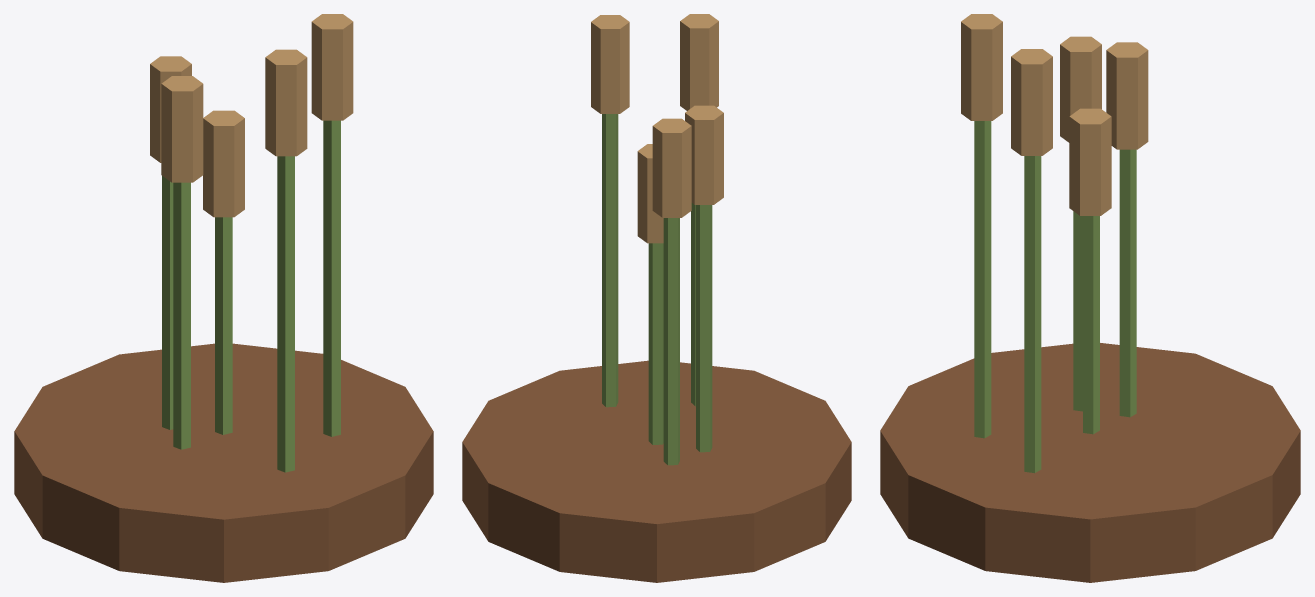
The model's file is reed_island.glb.
The picture shows the model from 3 angles, left to right: view 1: azimuth 30°, elevation 25°; view 2: azimuth 150°, elevation 25°; view 3: azimuth 270°, elevation 25°; orthographic projection. The views are drawn at different scales.
Visible parts, largest first — view 1: Reed island, Reed stalk.005, Reed stalk.002, Reed stalk.004, Reed head.002, Reed head.005, Reed head.004, Reed head, Reed stalk, Reed stalk.001, Reed head.001; view 2: Reed island, Reed stalk.005, Reed stalk.001, Reed stalk.004, Reed head.001, Reed head.005, Reed head.002, Reed head.004, Reed stalk, Reed head, Reed stalk.002; view 3: Reed island, Reed stalk.002, Reed stalk.005, Reed stalk.001, Reed head, Reed head.002, Reed head.005, Reed head.001, Reed stalk, Reed head.004, Reed stalk.004.
Part boxes in pixels (bbox=[...]): Reed island: bbox=[14, 343, 433, 582]; Reed stalk.005: bbox=[323, 120, 340, 436]; Reed stalk.002: bbox=[277, 156, 294, 472]; Reed stalk.004: bbox=[173, 182, 190, 449]; Reed head.002: bbox=[265, 49, 307, 156]; Reed head.005: bbox=[311, 14, 353, 120]; Reed head.004: bbox=[161, 76, 203, 182]; Reed head: bbox=[203, 110, 244, 217]; Reed stalk: bbox=[215, 217, 232, 434]; Reed stalk.001: bbox=[162, 176, 173, 429]; Reed head.001: bbox=[150, 56, 191, 162]; Reed island: bbox=[462, 360, 851, 582]; Reed stalk.005: bbox=[602, 114, 618, 407]; Reed stalk.001: bbox=[663, 218, 679, 465]; Reed stalk.004: bbox=[696, 205, 712, 452]; Reed head.001: bbox=[652, 118, 691, 217]; Reed head.005: bbox=[591, 15, 629, 113]; Reed head.002: bbox=[680, 14, 718, 110]; Reed head.004: bbox=[685, 105, 723, 204]; Reed stalk: bbox=[648, 243, 663, 444]; Reed head: bbox=[637, 144, 663, 243]; Reed stalk.002: bbox=[691, 203, 695, 406]; Reed island: bbox=[880, 343, 1300, 582]; Reed stalk.002: bbox=[974, 121, 991, 438]; Reed stalk.005: bbox=[1024, 156, 1041, 473]; Reed stalk.001: bbox=[1119, 149, 1136, 417]; Reed head: bbox=[1069, 108, 1111, 215]; Reed head.002: bbox=[961, 14, 1002, 120]; Reed head.005: bbox=[1011, 49, 1052, 155]; Reed head.001: bbox=[1106, 42, 1148, 149]; Reed stalk: bbox=[1083, 216, 1099, 434]; Reed head.004: bbox=[1060, 36, 1101, 142]; Reed stalk.004: bbox=[1073, 211, 1082, 411].
Size of the model in its own units: 0.54 by 0.675 by 0.54.
